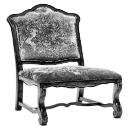chair_success: (2, 2, 125, 128)
